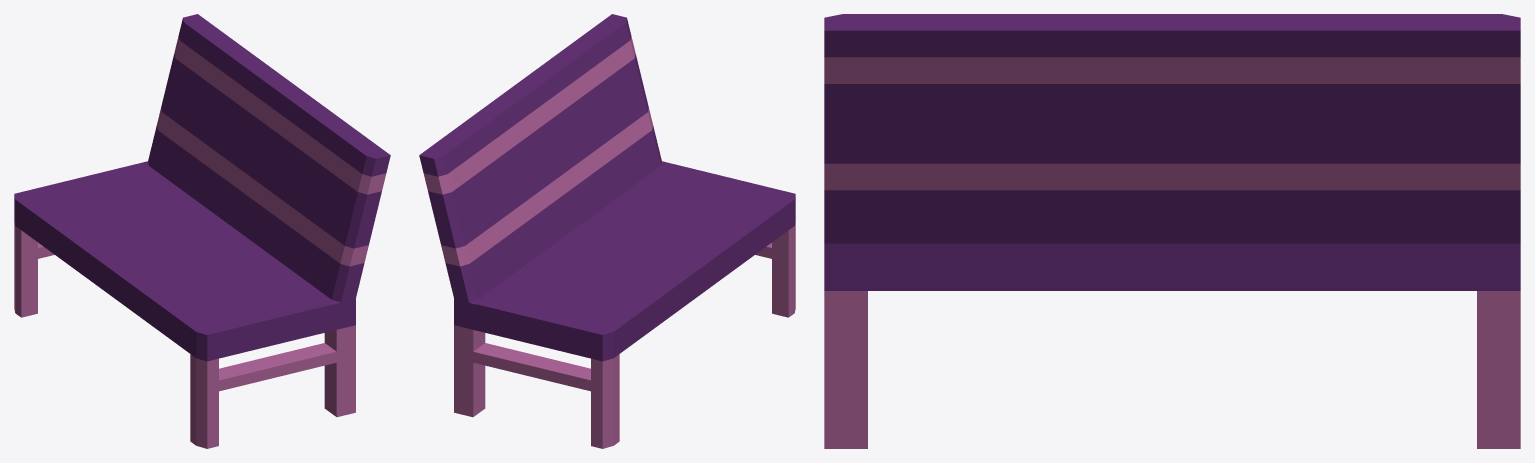
Rendered from BenchModel07.fbx.
3 views of the same model, side by side, from view 1: azimuth 30°, elevation 25°; view 2: azimuth 150°, elevation 25°; view 3: azimuth 270°, elevation 25° (orthographic). The views are drawn at different scales.
Visible parts, largest first — view 1: Bench07; view 2: Bench07; view 3: Bench07.
Part boxes in pixels (x1,y1,x2,y2): Bench07: (14, 14, 390, 448); Bench07: (419, 14, 795, 448); Bench07: (824, 14, 1520, 448).
Bounding box in the file's own units: 100 × 126 × 177.
